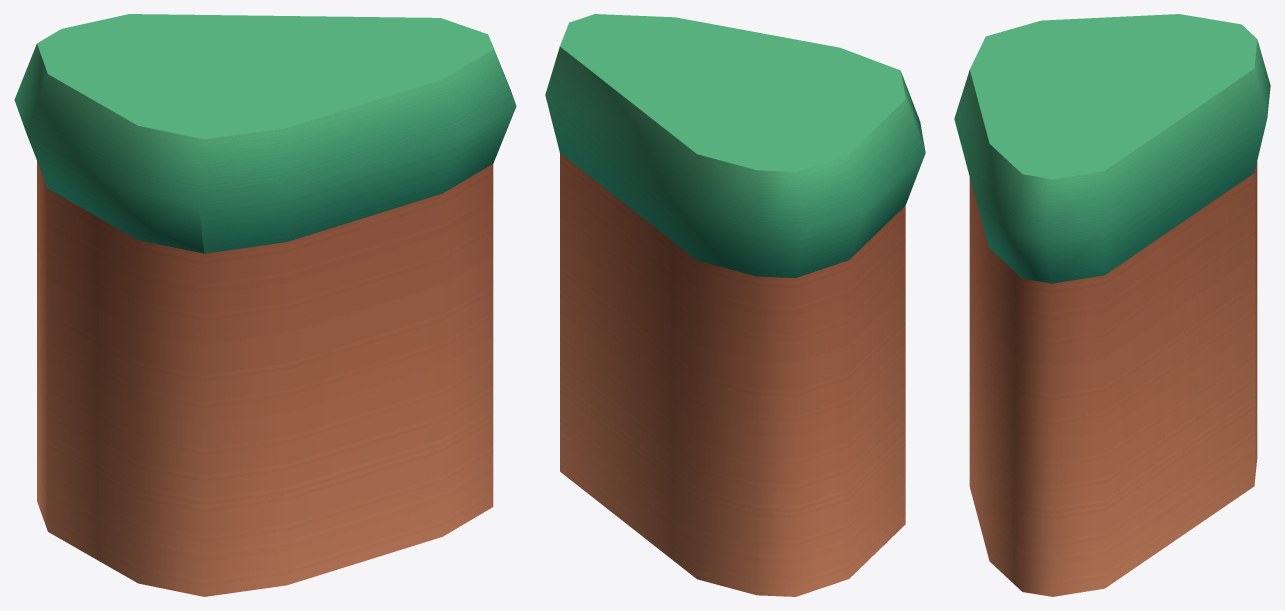
Rendered from block-grass-corner_lev2.glb.
3 views of the same model, side by side, from view 1: azimuth 30°, elevation 25°; view 2: azimuth 150°, elevation 25°; view 3: azimuth 270°, elevation 25° (orthographic). The views are drawn at different scales.
Parts seen in each view (by area): view 1: block-grass-corner_lev2; view 2: block-grass-corner_lev2; view 3: block-grass-corner_lev2.
Boxes of the visible parts, box(x1,y1,x2,y2) form: block-grass-corner_lev2: box(14, 14, 516, 596); block-grass-corner_lev2: box(545, 14, 925, 596); block-grass-corner_lev2: box(954, 14, 1270, 596).
Size of the model in its own units: 4.21 by 4.52 by 3.1.
1 material, 1 textured.
